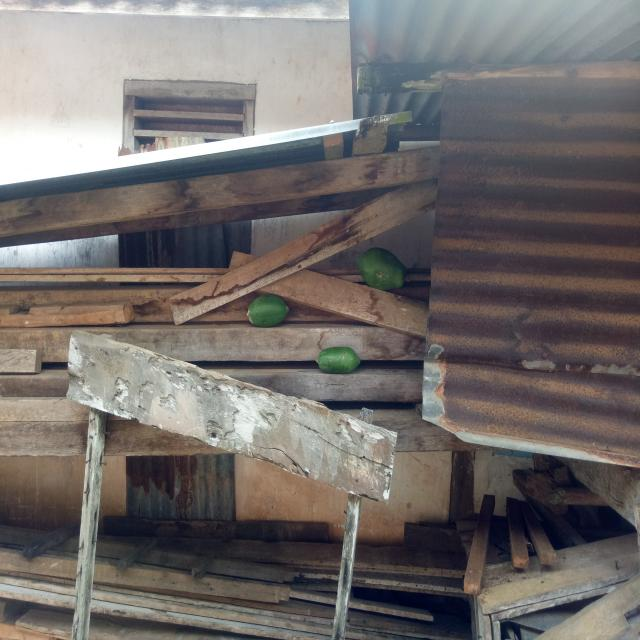Pepaya unrippen: (355, 248, 412, 293), (241, 287, 294, 332), (311, 342, 359, 377)
